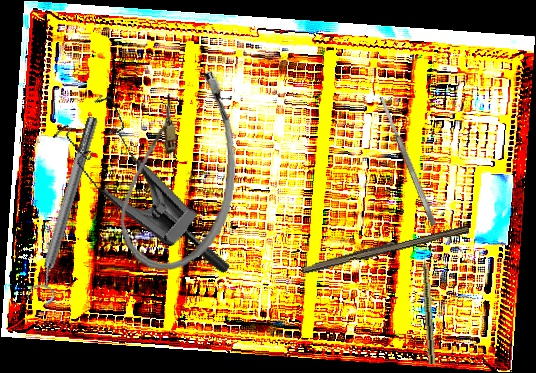Cannula: (115, 64, 244, 276)
Fixation Ring: (22, 113, 110, 308)
Handpiece: (419, 244, 438, 365)
Scalpel Handle: (300, 219, 470, 278)
Spatula Surgical: (378, 95, 438, 227)
Speculum: (32, 81, 275, 277)
